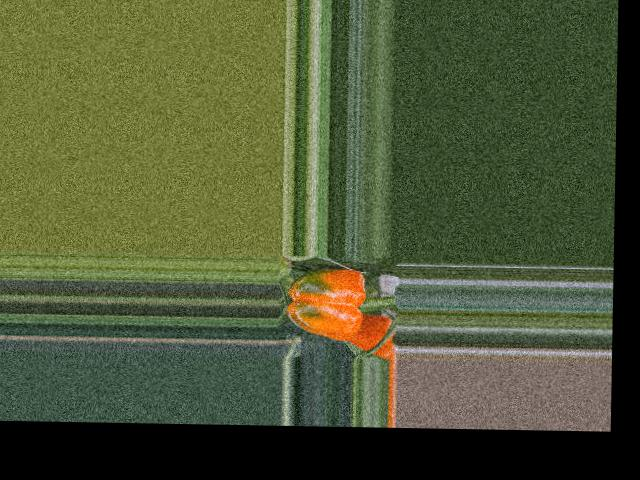bell_pepper: (280, 258, 375, 344)
